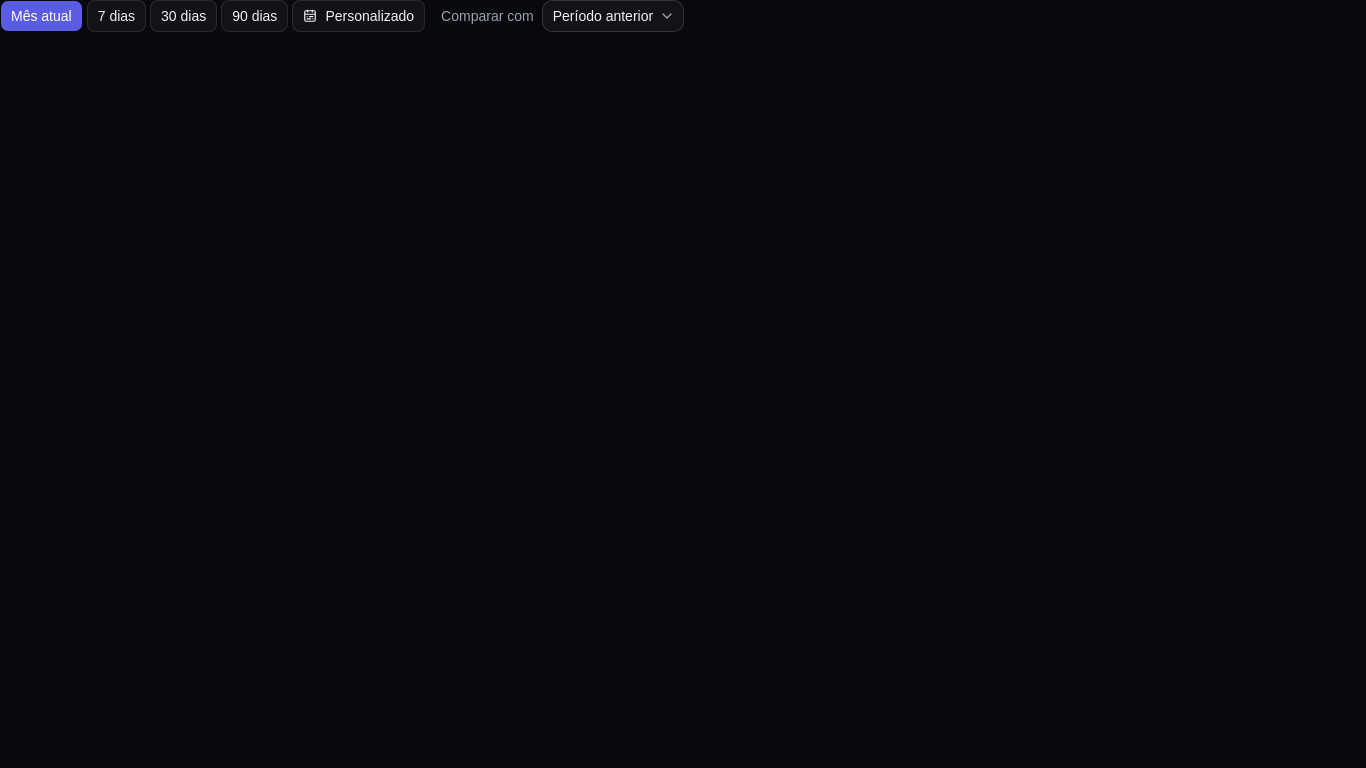
Test: PeriodoAdsSeletor › range inválido (fora da retenção) mostra o motivo e não envia
Click the button "Personalizado" at (359, 16), box top-left (292, 0), bottom-right (425, 32)
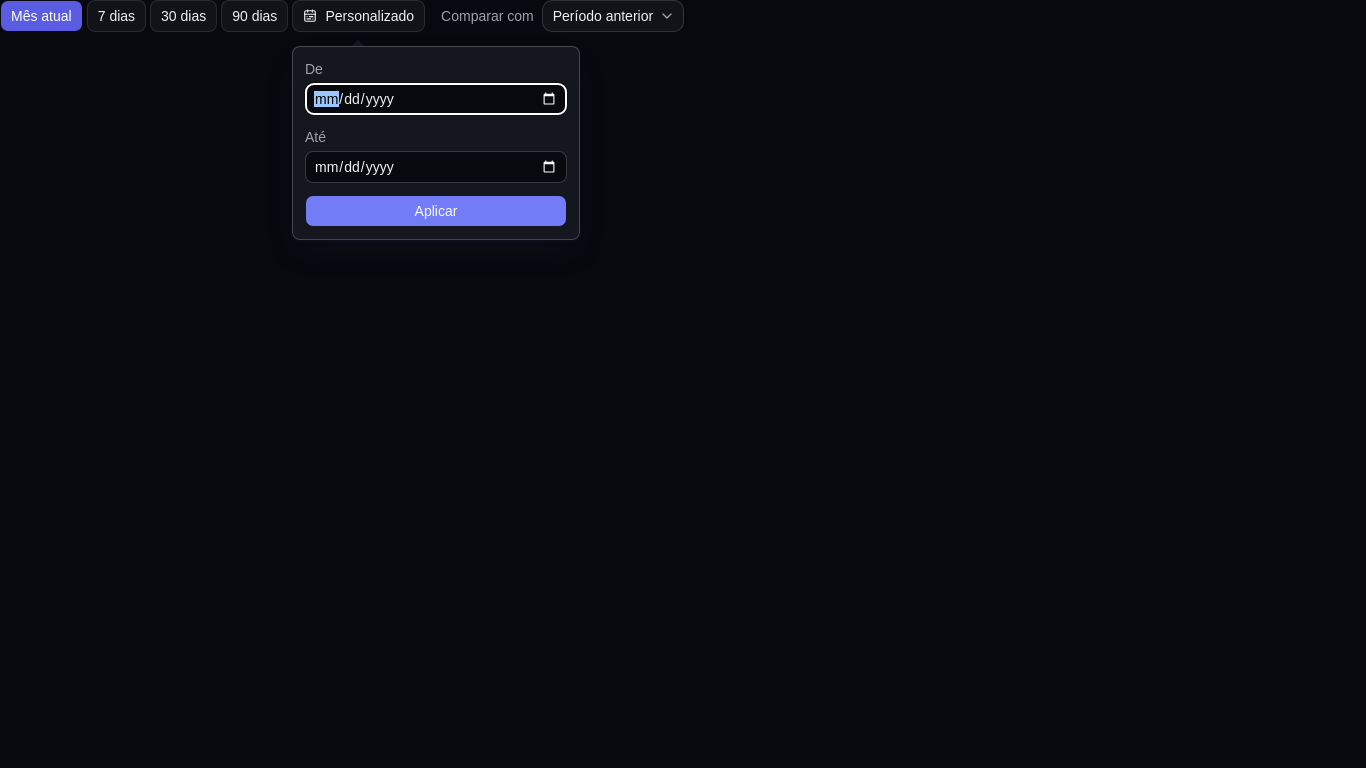
Type "2026-06-01" into the date field labelled "De" at (436, 99), box top-left (305, 83), bottom-right (567, 115)
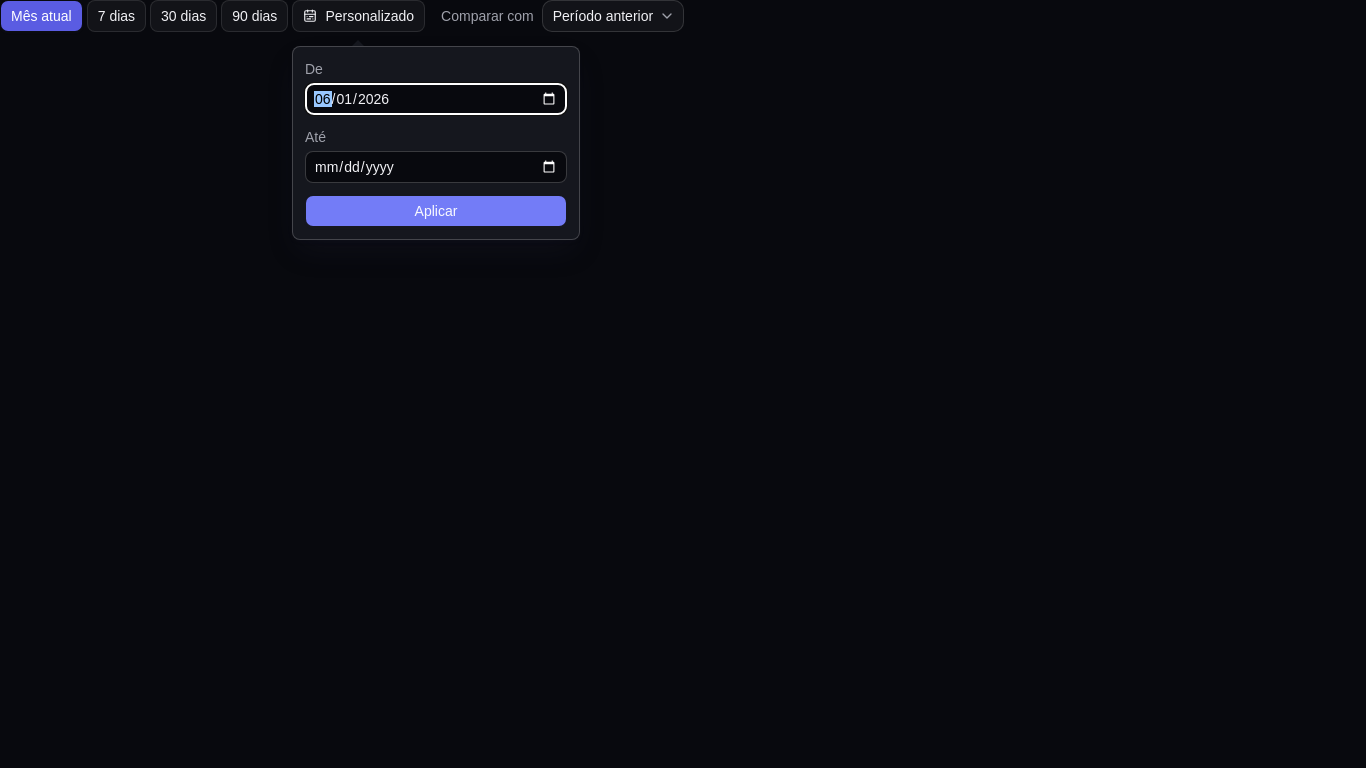
Type "2026-06-10" into the date field labelled "Até" at (436, 167), box top-left (305, 151), bottom-right (567, 183)
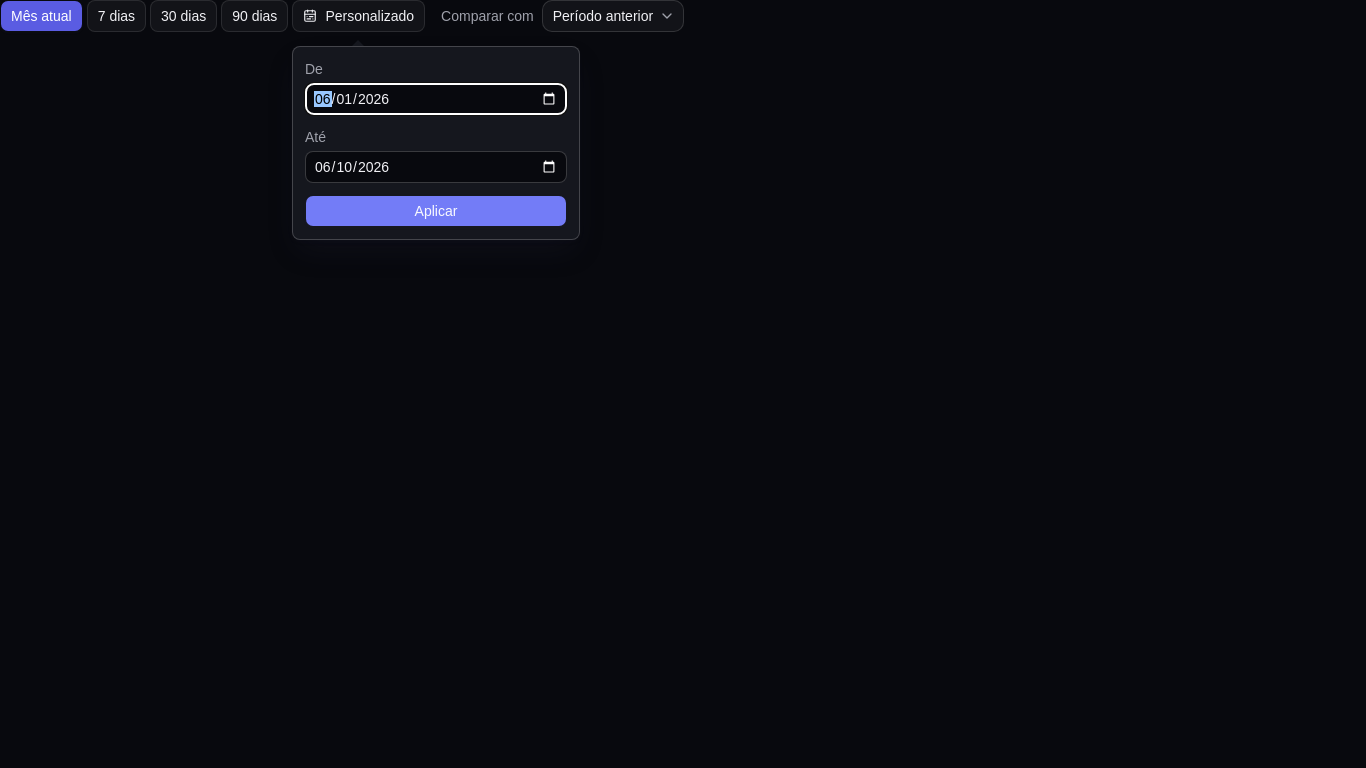
Click the button "Aplicar" at (436, 211), box top-left (305, 195), bottom-right (567, 227)
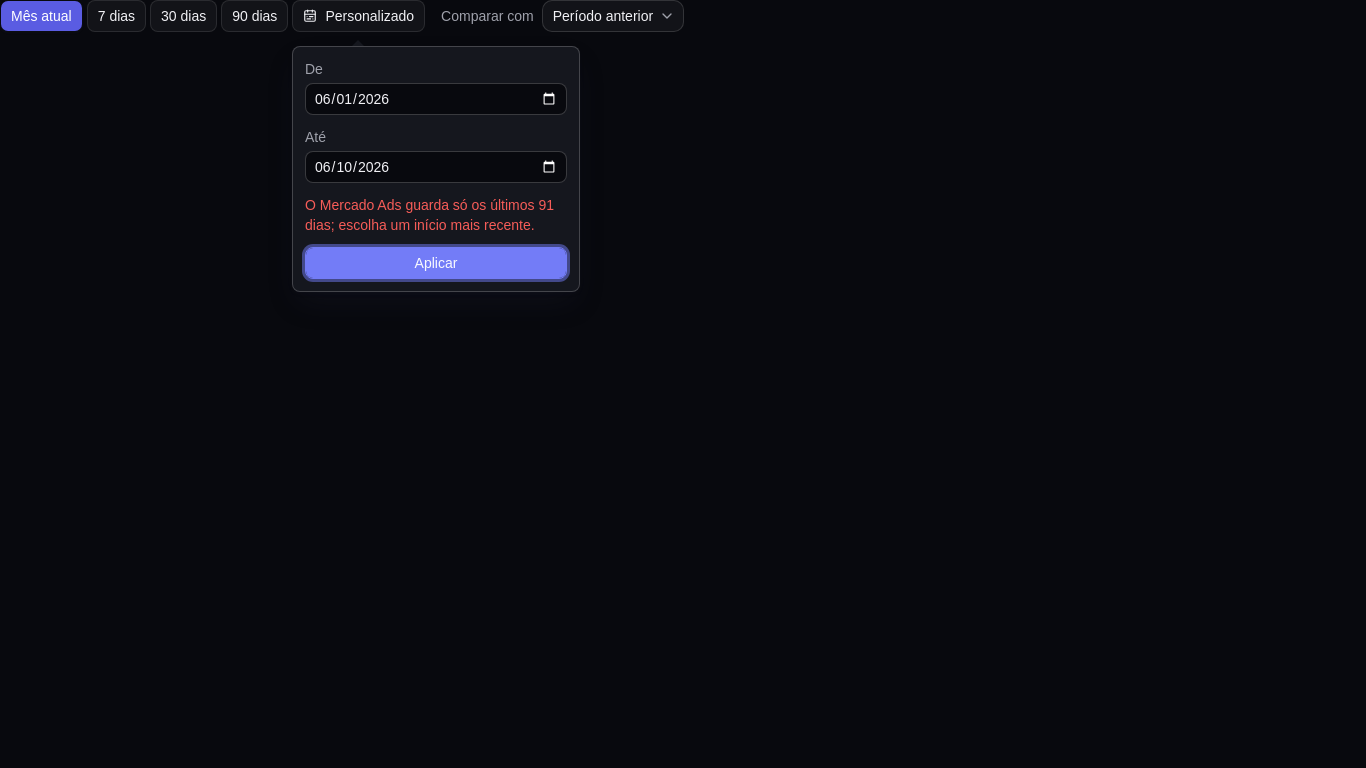
Expected: the message shows "91 dias", top-left (305, 197), bottom-right (554, 233)
